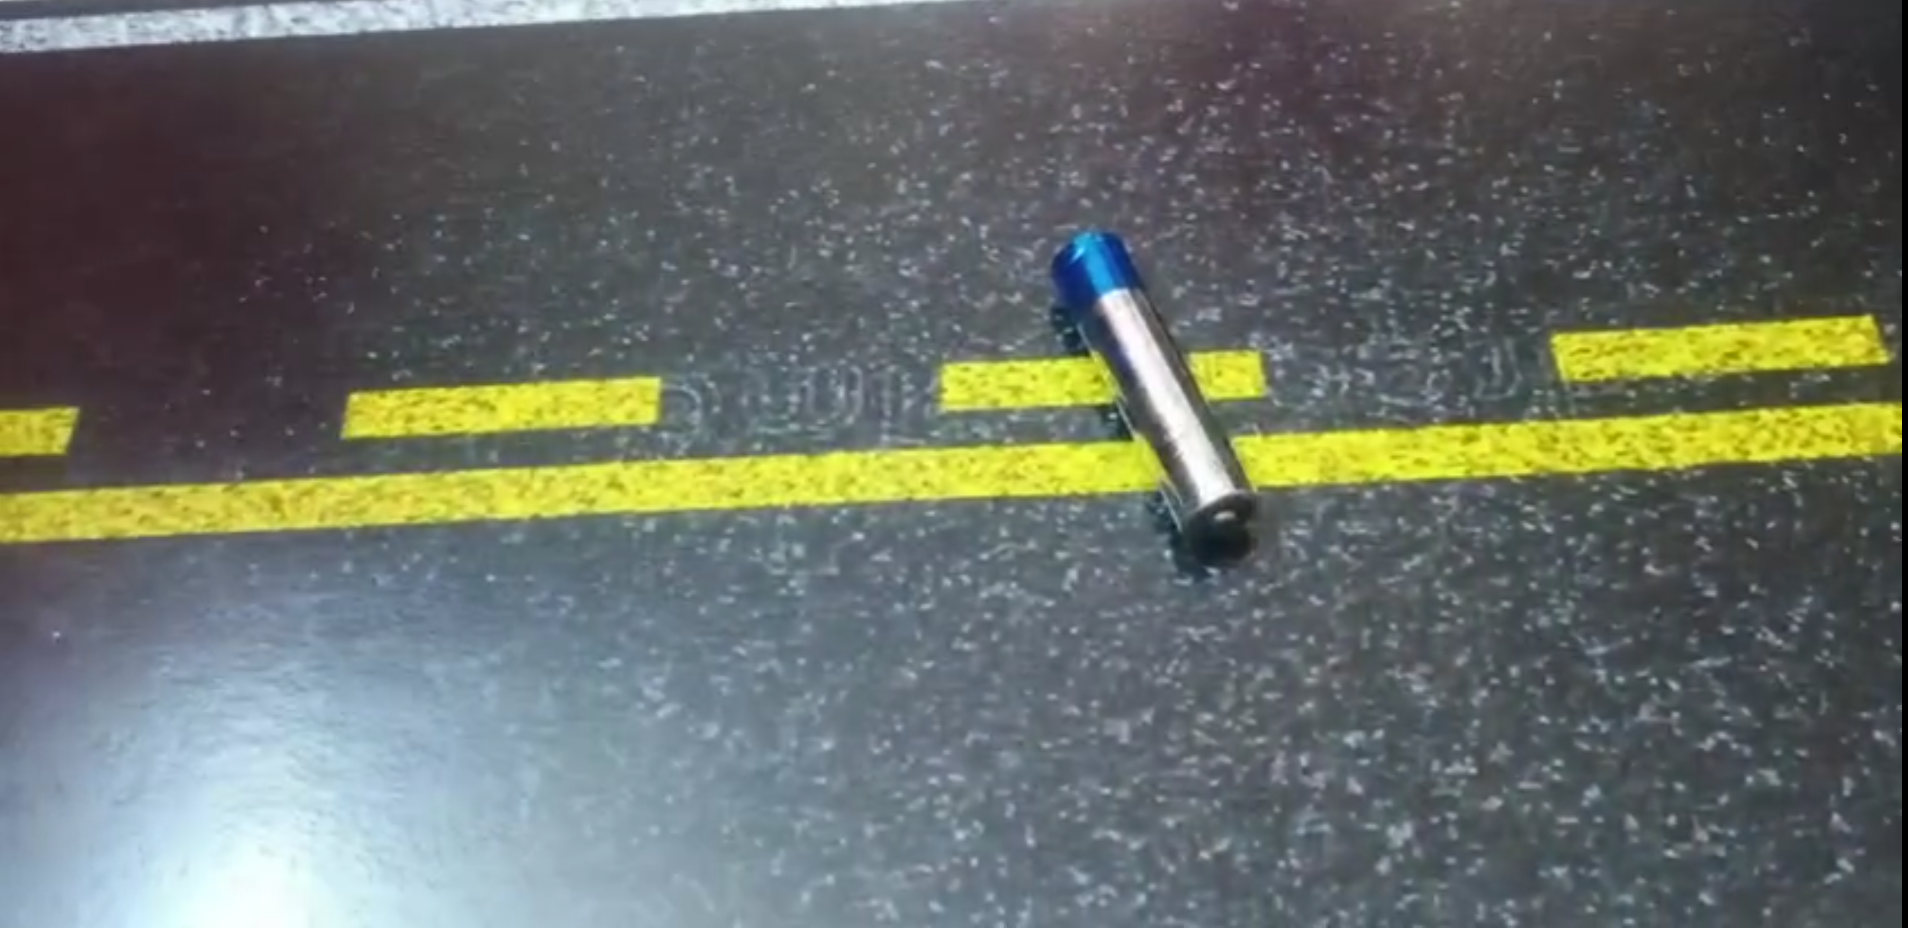metal: (1039, 227, 1267, 559)
